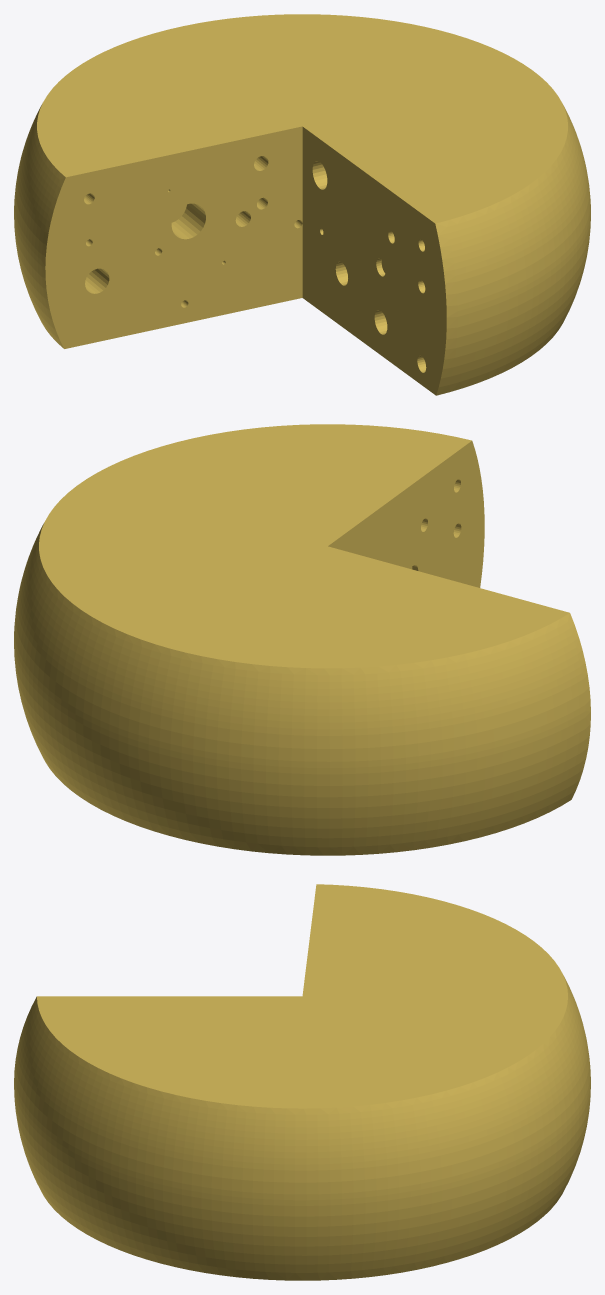
The model's file is queijoChedar.fbx.
3 renders of one model, top to bottom at view 1: azimuth 30°, elevation 25°; view 2: azimuth 150°, elevation 25°; view 3: azimuth 270°, elevation 25°, orthographic. The views are drawn at different scales.
Parts seen in each view (by area): view 1: Food; view 2: Food; view 3: Food.
Part boxes in pixels (x1=…): Food: x1=14, y1=14, x2=590, y2=395; Food: x1=14, y1=424, x2=590, y2=855; Food: x1=14, y1=884, x2=590, y2=1280.
Size of the model in its own units: 2784 by 914 by 2786.
